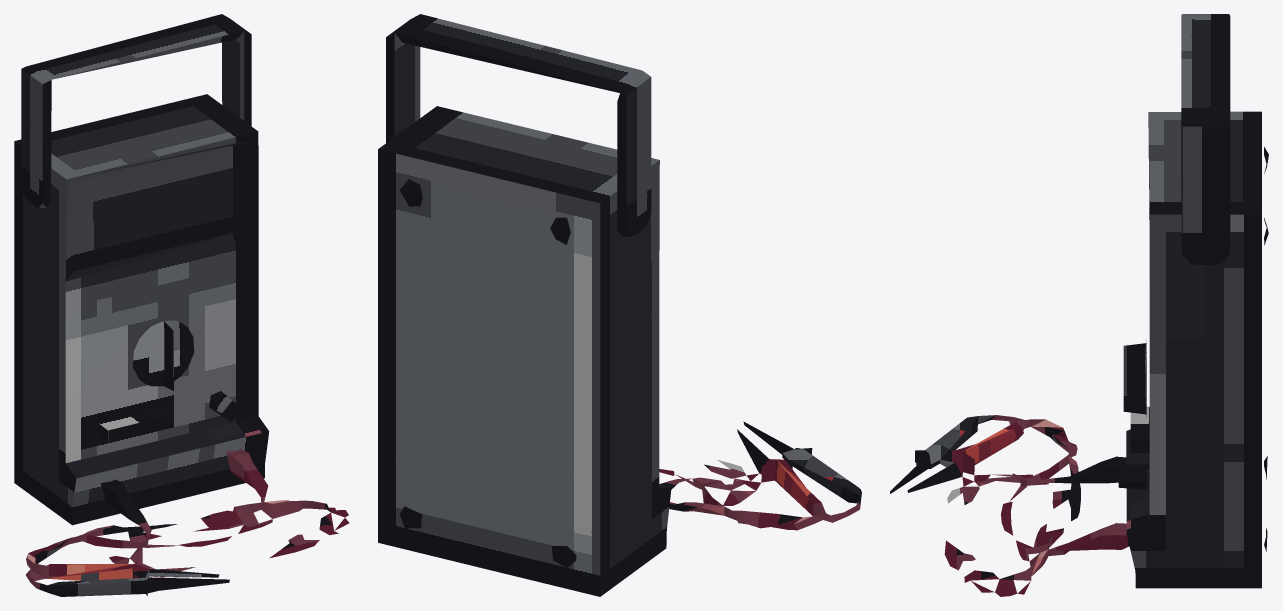
The model's file is retro_multimeter.glb.
3 views of the same model, side by side, from view 1: azimuth 30°, elevation 25°; view 2: azimuth 150°, elevation 25°; view 3: azimuth 270°, elevation 25° (orthographic). The views are drawn at different scales.
Parts seen in each view (by area): view 1: mesh; view 2: mesh; view 3: mesh.
Part boxes in pixels (x1,y1,x2,y2): mesh: [14, 14, 349, 596]; mesh: [378, 14, 861, 596]; mesh: [890, 14, 1268, 596].
Bounding box in the file's own units: 0.2146 × 0.2786 × 0.2023.
1 material, 1 textured.
